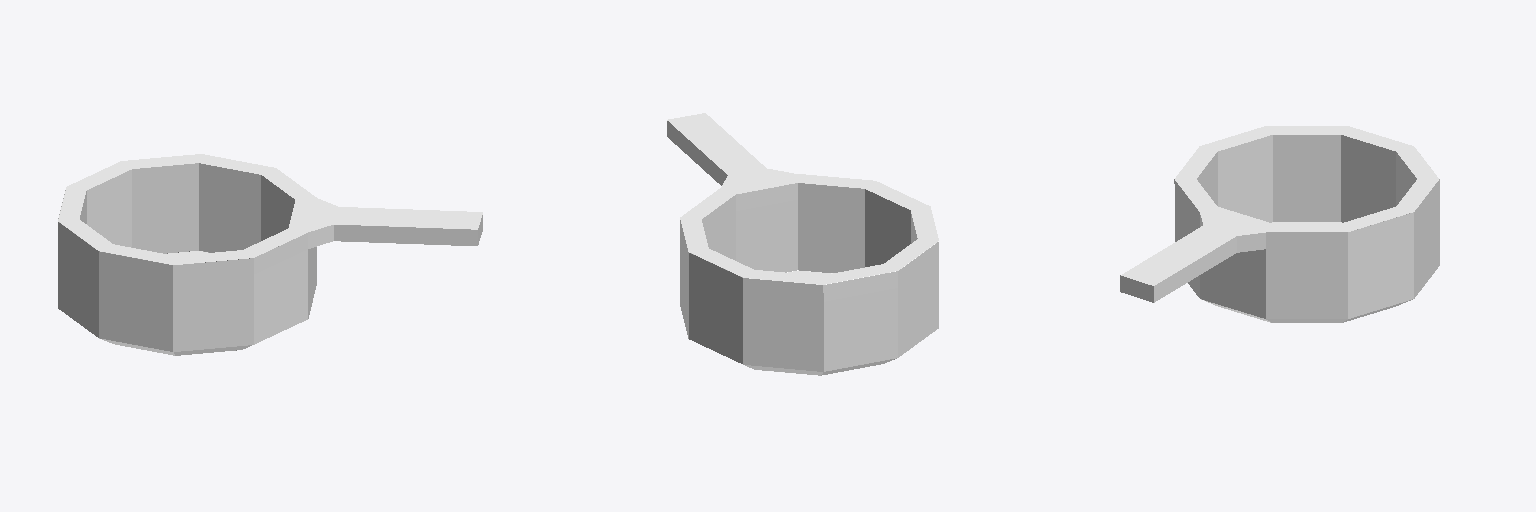
The model's file is saucepan.obj.
The picture shows the model from 3 angles: view 1: azimuth 30°, elevation 25°; view 2: azimuth 150°, elevation 25°; view 3: azimuth 270°, elevation 25°; orthographic projection.
Parts seen in each view (by area): view 1: g1_group; view 2: g1_group; view 3: g1_group.
Part boxes in pixels (bbox=[...]): g1_group: bbox=[58, 154, 482, 355]; g1_group: bbox=[667, 113, 938, 375]; g1_group: bbox=[1120, 126, 1439, 322].
Bounding box in the file's own units: 0.9804 × 0.2849 × 0.8244.